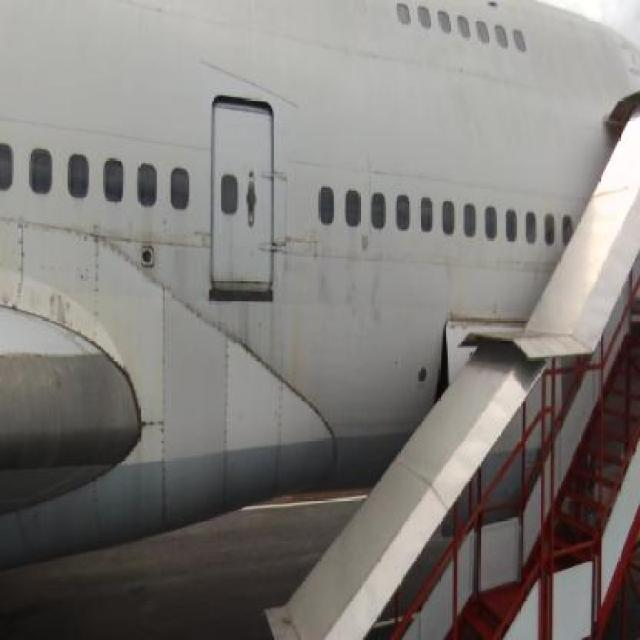Missing-Rivet: (88, 233, 104, 336), (13, 221, 30, 305), (140, 407, 174, 433)
Rust: (282, 277, 306, 392), (447, 306, 528, 334), (231, 294, 266, 358), (215, 268, 271, 295), (134, 201, 166, 245), (223, 214, 242, 288)
Scartch: (313, 246, 393, 331), (42, 280, 87, 337)
